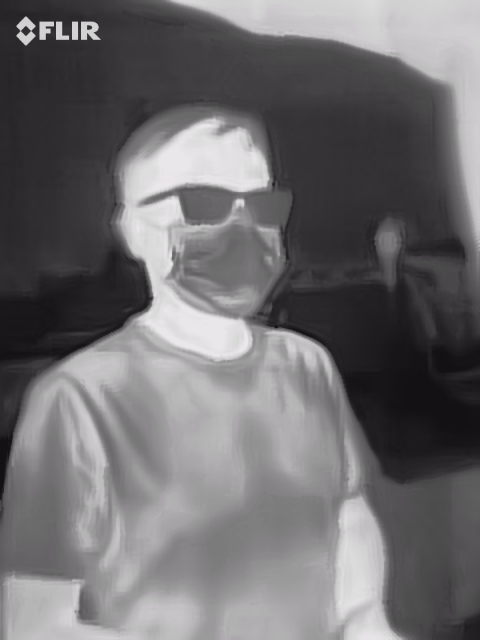head: (107, 102, 293, 321)
